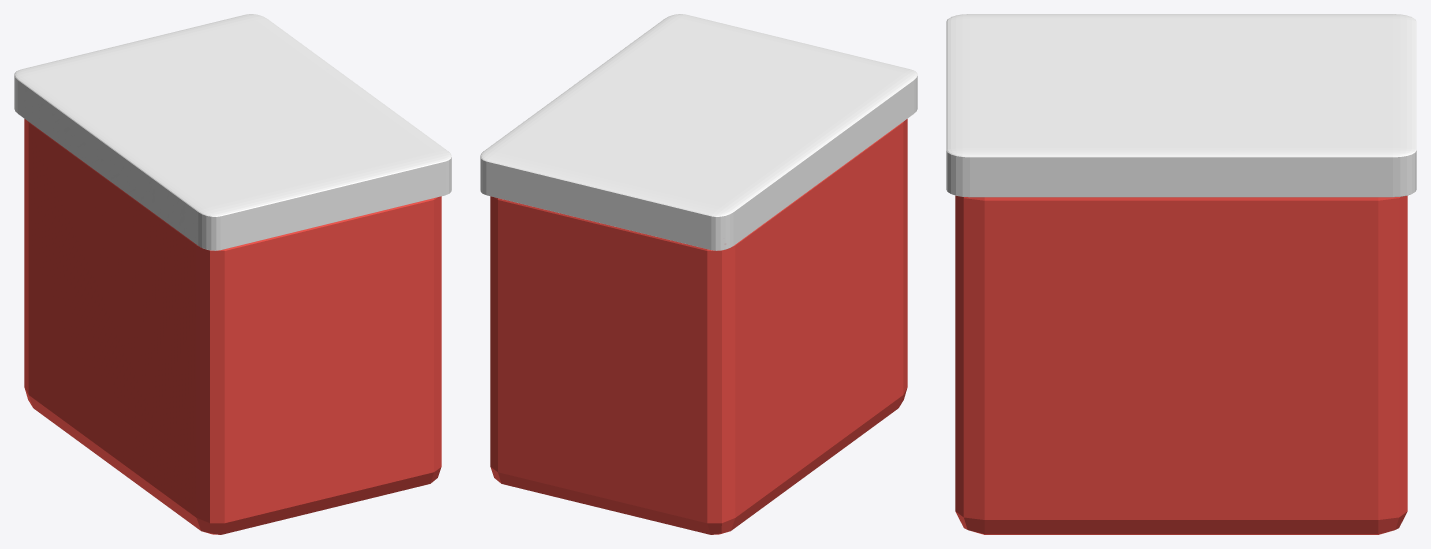
Rendered from thermal_box.fbx.
3 renders of one model, left to right at view 1: azimuth 30°, elevation 25°; view 2: azimuth 150°, elevation 25°; view 3: azimuth 270°, elevation 25°, orthographic. The views are drawn at different scales.
Parts seen in each view (by area): view 1: Cube.018; view 2: Cube.018; view 3: Cube.018.
Boxes of the visible parts, x1,y1,x2,y2 form: Cube.018: [14, 14, 451, 534]; Cube.018: [480, 14, 917, 534]; Cube.018: [946, 14, 1416, 534].
Bounding box in the file's own units: 207 × 264 × 287.
